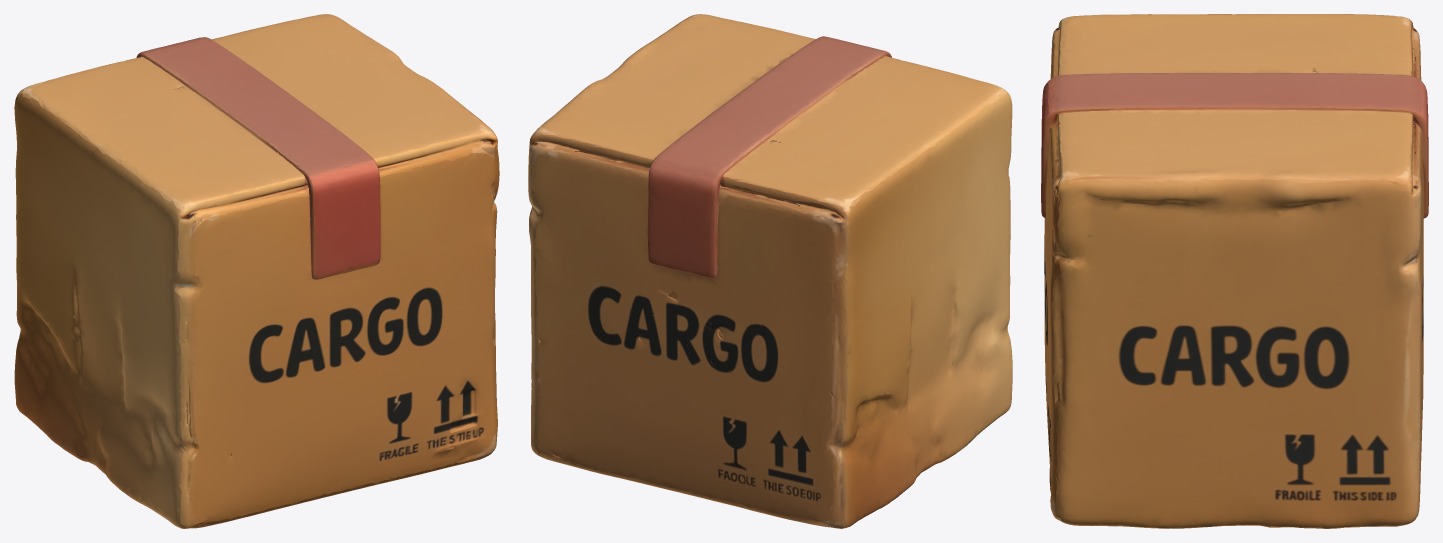
Rendered from crate.glb.
3 views of the same model, side by side, from view 1: azimuth 30°, elevation 25°; view 2: azimuth 150°, elevation 25°; view 3: azimuth 270°, elevation 25° (orthographic). The views are drawn at different scales.
Visible parts, largest first — view 1: geometry_0; view 2: geometry_0; view 3: geometry_0.
Boxes of the visible parts, left/top/right/bottom form: geometry_0: left=14, top=14, right=499, bottom=528; geometry_0: left=528, top=14, right=1012, bottom=528; geometry_0: left=1041, top=14, right=1428, bottom=528.
Bounding box in the file's own units: 0.2 × 0.1962 × 0.1912.
Materials: 1 (1 with a texture image).
